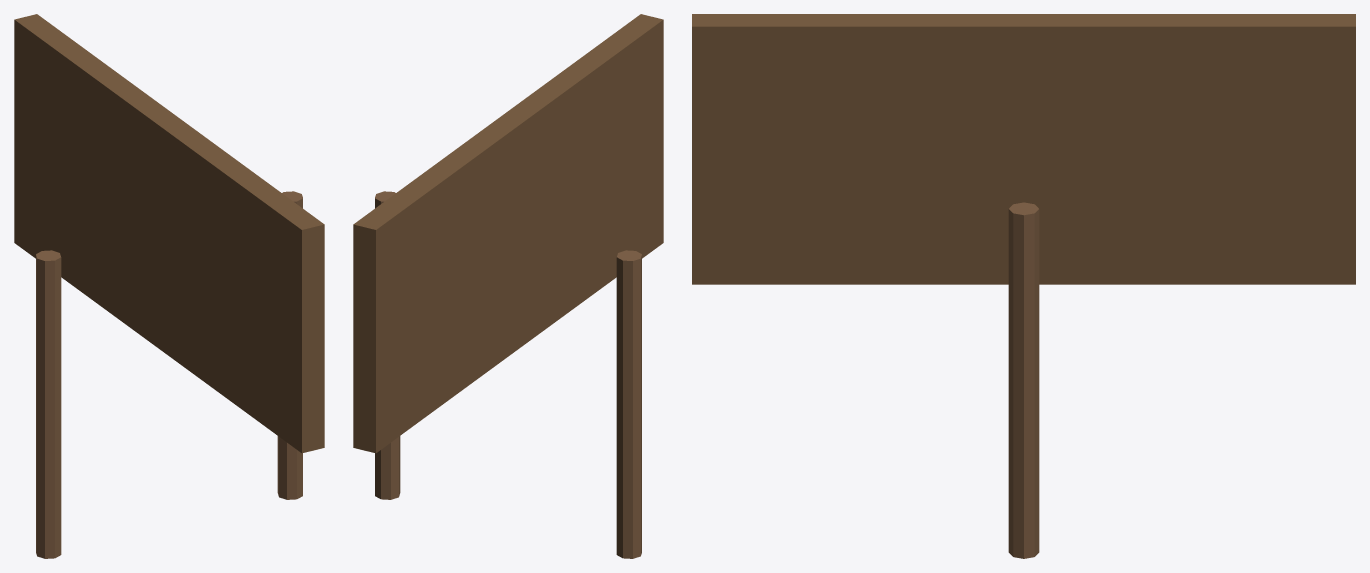
Rendered from cartel_meta_lev1.glb.
3 views of the same model, side by side, from view 1: azimuth 30°, elevation 25°; view 2: azimuth 150°, elevation 25°; view 3: azimuth 270°, elevation 25° (orthographic). The views are drawn at different scales.
Visible parts, largest first — view 1: cartel_meta_lev1; view 2: cartel_meta_lev1; view 3: cartel_meta_lev1.
Part boxes in pixels (x1,y1,x2,y2): cartel_meta_lev1: [14, 14, 324, 558]; cartel_meta_lev1: [353, 14, 663, 558]; cartel_meta_lev1: [692, 14, 1355, 558].
Bounding box in the file's own units: 1.86 × 2.7 × 3.5.
